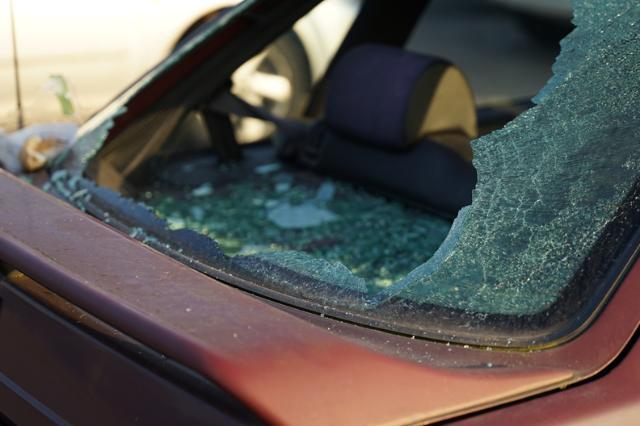Windshield: (74, 0, 596, 314)
